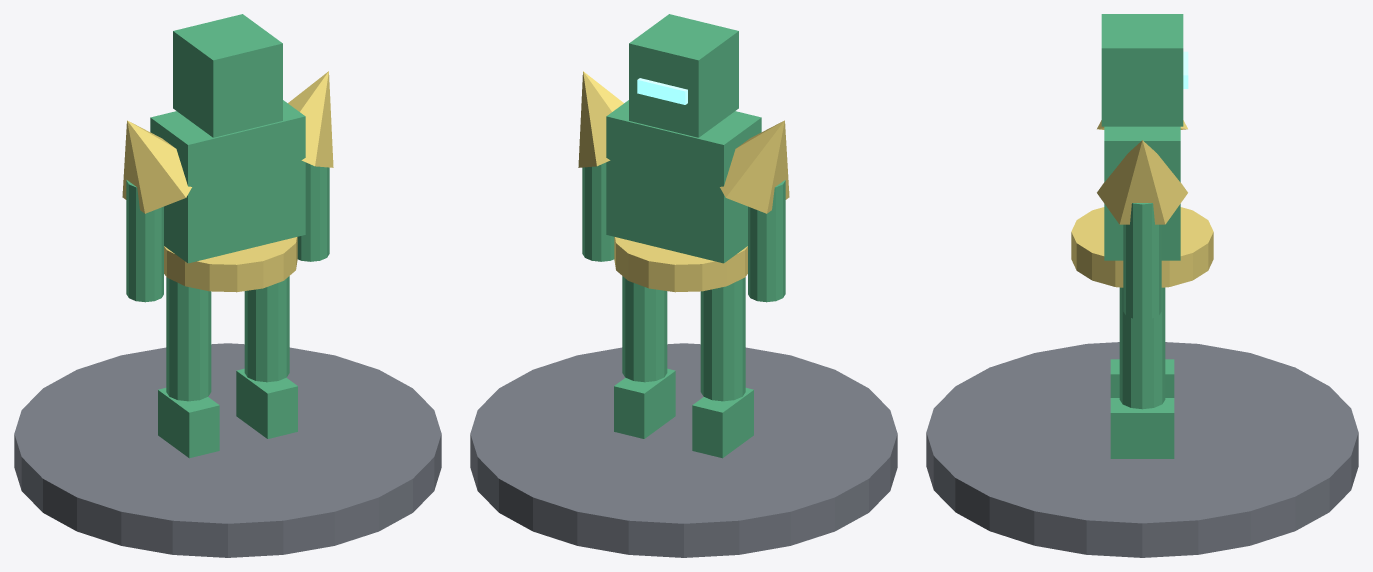
File: armor_set_spirit.glb
The picture shows the model from 3 angles, left to right: view 1: azimuth 30°, elevation 25°; view 2: azimuth 150°, elevation 25°; view 3: azimuth 270°, elevation 25°; orthographic projection.
Visible parts, largest first — view 1: Cylinder, Cube.002, Cube.003, Cylinder.001, Cylinder.003, Cylinder.002, Cone, Cylinder.004, Cube, Cube.001, Cylinder.005, Cone.001; view 2: Cylinder, Cube.002, Cube.003, Cylinder.001, Cylinder.003, Cylinder.002, Cone, Cylinder.004, Cube, Cube.001, Cylinder.005, Cone.001 (+1 smaller); view 3: Cylinder, Cube.003, Cylinder.003, Cylinder.002, Cube.002, Cone.001, Cylinder.005, Cube.001, Cube.
Boxes of the visible parts, x1,y1,x2,y2 form: Cylinder: (14,343,441,557); Cube.002: (150,100,305,263); Cube.003: (173,14,282,137); Cylinder.001: (166,277,211,401); Cylinder.003: (164,237,297,292); Cylinder.002: (244,276,289,382); Cone: (122,120,191,213); Cylinder.004: (126,180,163,302); Cube: (158,388,219,458); Cube.001: (236,368,297,438); Cylinder.005: (297,162,329,261); Cone.001: (288,71,333,167); Cylinder: (470,343,897,557); Cube.002: (606,100,761,263); Cube.003: (629,14,738,137); Cylinder.001: (700,277,745,401); Cylinder.003: (614,237,747,292); Cylinder.002: (622,276,667,382); Cone: (720,120,789,213); Cylinder.004: (748,180,785,302); Cube: (692,388,753,458); Cube.001: (614,368,675,438); Cylinder.005: (582,162,614,261); Cone.001: (578,71,623,167); Cylinder: (926,342,1358,557); Cube.003: (1101,14,1183,126); Cylinder.003: (1071,207,1213,287); Cylinder.002: (1119,287,1165,409); Cube.002: (1104,126,1180,260); Cone.001: (1097,140,1187,224); Cylinder.005: (1123,203,1161,319); Cube.001: (1110,398,1174,458); Cube: (1110,359,1174,397).
Bounding box in the file's own units: 1.7 × 1.89 × 1.7.
